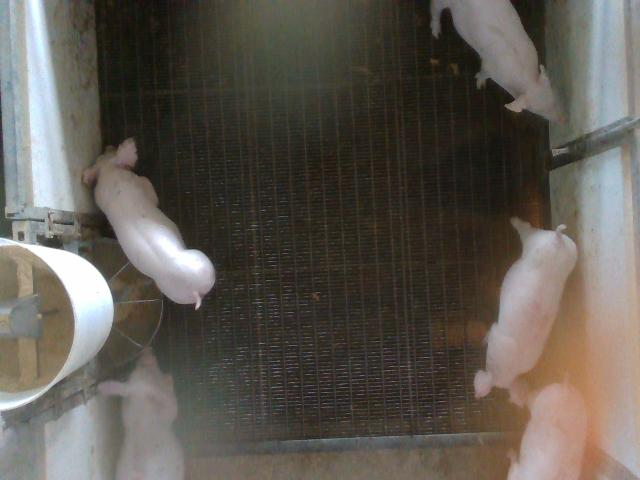pig-4: (474, 218, 578, 406)
